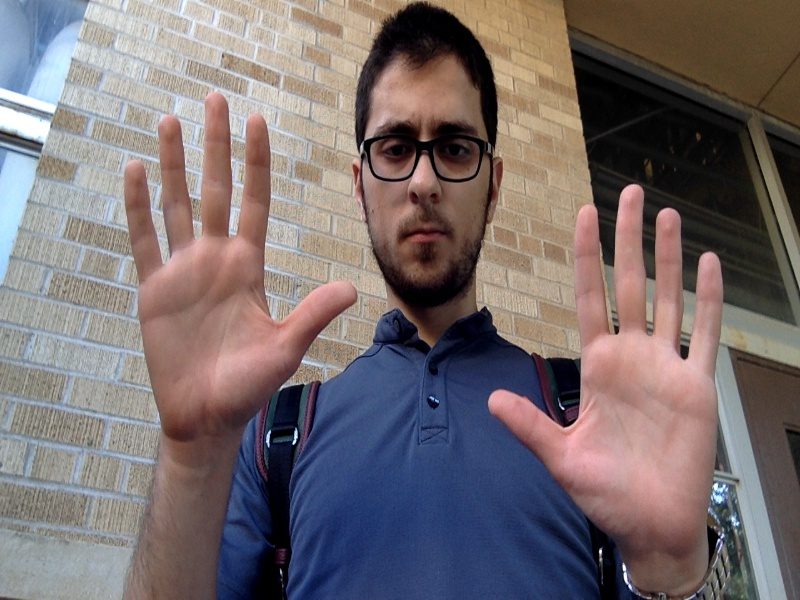5-hand: (488, 180, 720, 544), (124, 93, 355, 446)
